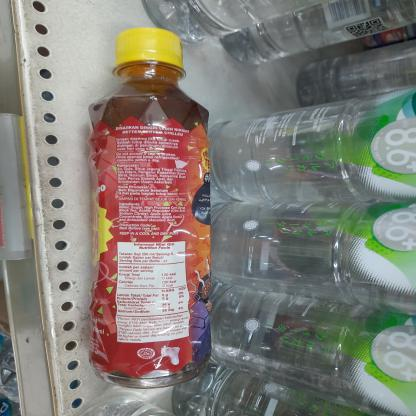plastic: (80, 26, 220, 391)
